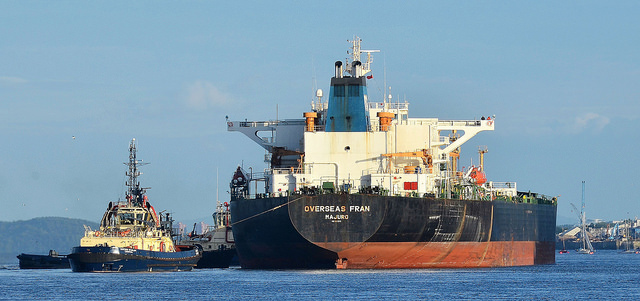tanker: (223, 38, 565, 273)
tug_boat: (70, 143, 198, 273)
